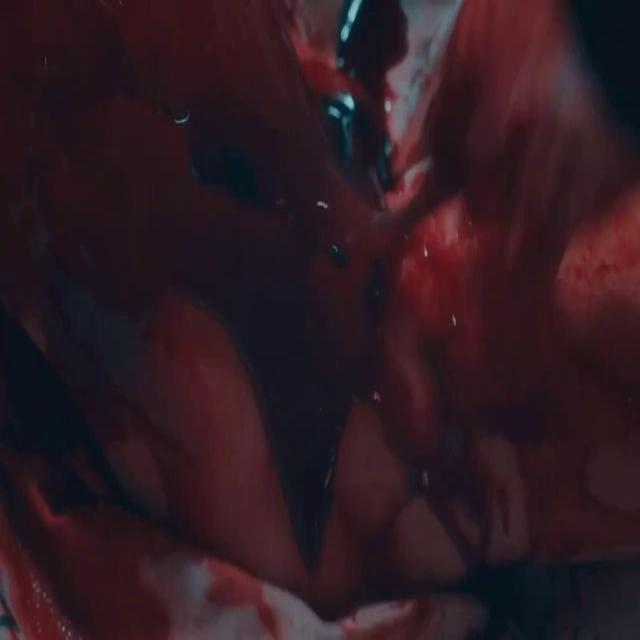flood: (221, 283, 503, 586), (310, 0, 410, 212)
